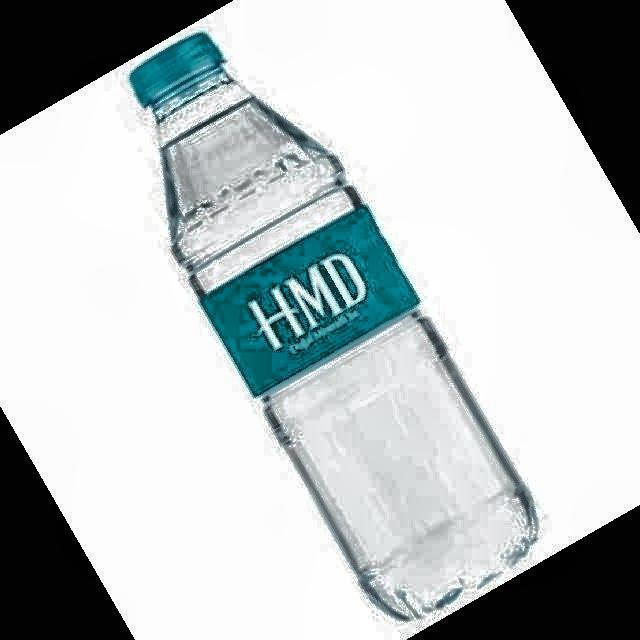plastic: (130, 32, 538, 619)
